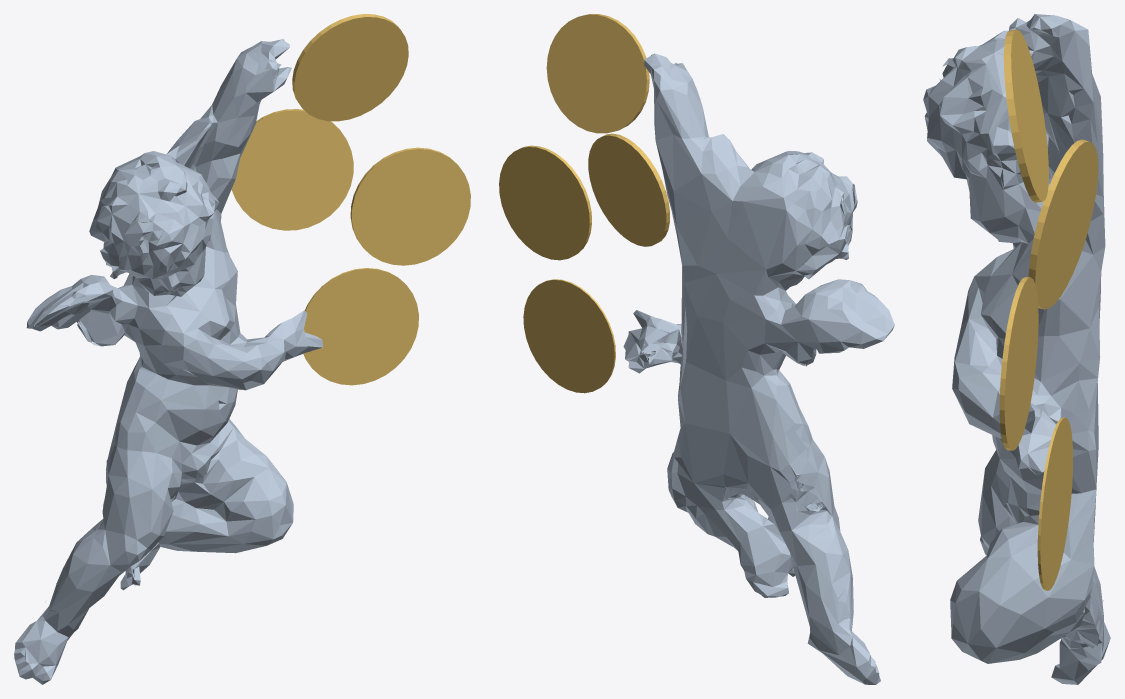
Rendered from mobile_angel_coins.glb.
3 views of the same model, side by side, from view 1: azimuth 30°, elevation 25°; view 2: azimuth 150°, elevation 25°; view 3: azimuth 270°, elevation 25° (orthographic). The views are drawn at different scales.
Parts seen in each view (by area): view 1: Angel, Coin2, Coin3, Coin4, Coin1; view 2: Angel, Coin1, Coin3, Coin4, Coin2; view 3: Angel, Coin2, Coin1, Coin3, Coin4.
Boxes of the visible parts, box(x1,y1,x2,y2) form: Angel: box(14, 39, 322, 684); Coin2: box(231, 109, 353, 230); Coin3: box(350, 147, 470, 265); Coin4: box(303, 268, 418, 385); Coin1: box(292, 14, 408, 121); Angel: box(623, 53, 894, 684); Coin1: box(546, 14, 649, 133); Coin3: box(499, 145, 591, 260); Coin4: box(523, 279, 615, 393); Coin2: box(588, 133, 669, 246); Angel: box(923, 14, 1110, 684); Coin2: box(1028, 139, 1098, 309); Coin1: box(1003, 29, 1048, 202); Coin3: box(999, 277, 1038, 450); Coin4: box(1037, 417, 1072, 590).
Size of the model in its own units: 1.89 by 2.59 by 0.5218.
